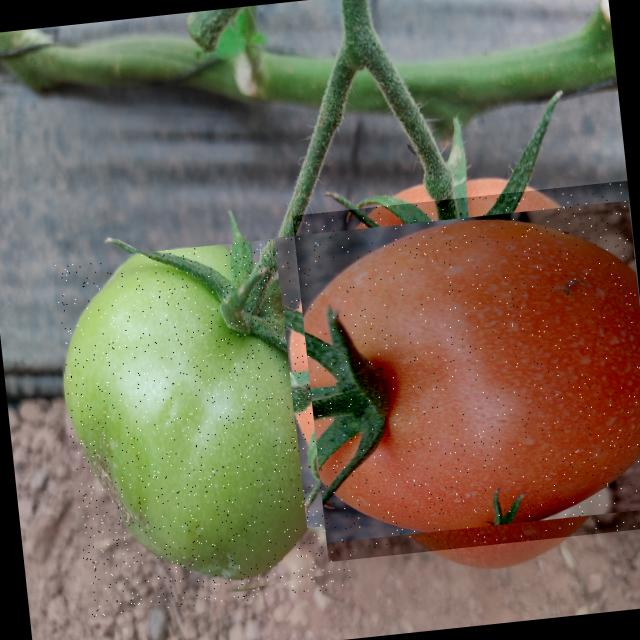Ripe Tomato: (291, 180, 640, 561)
Unripe Tomato: (51, 234, 352, 617)
